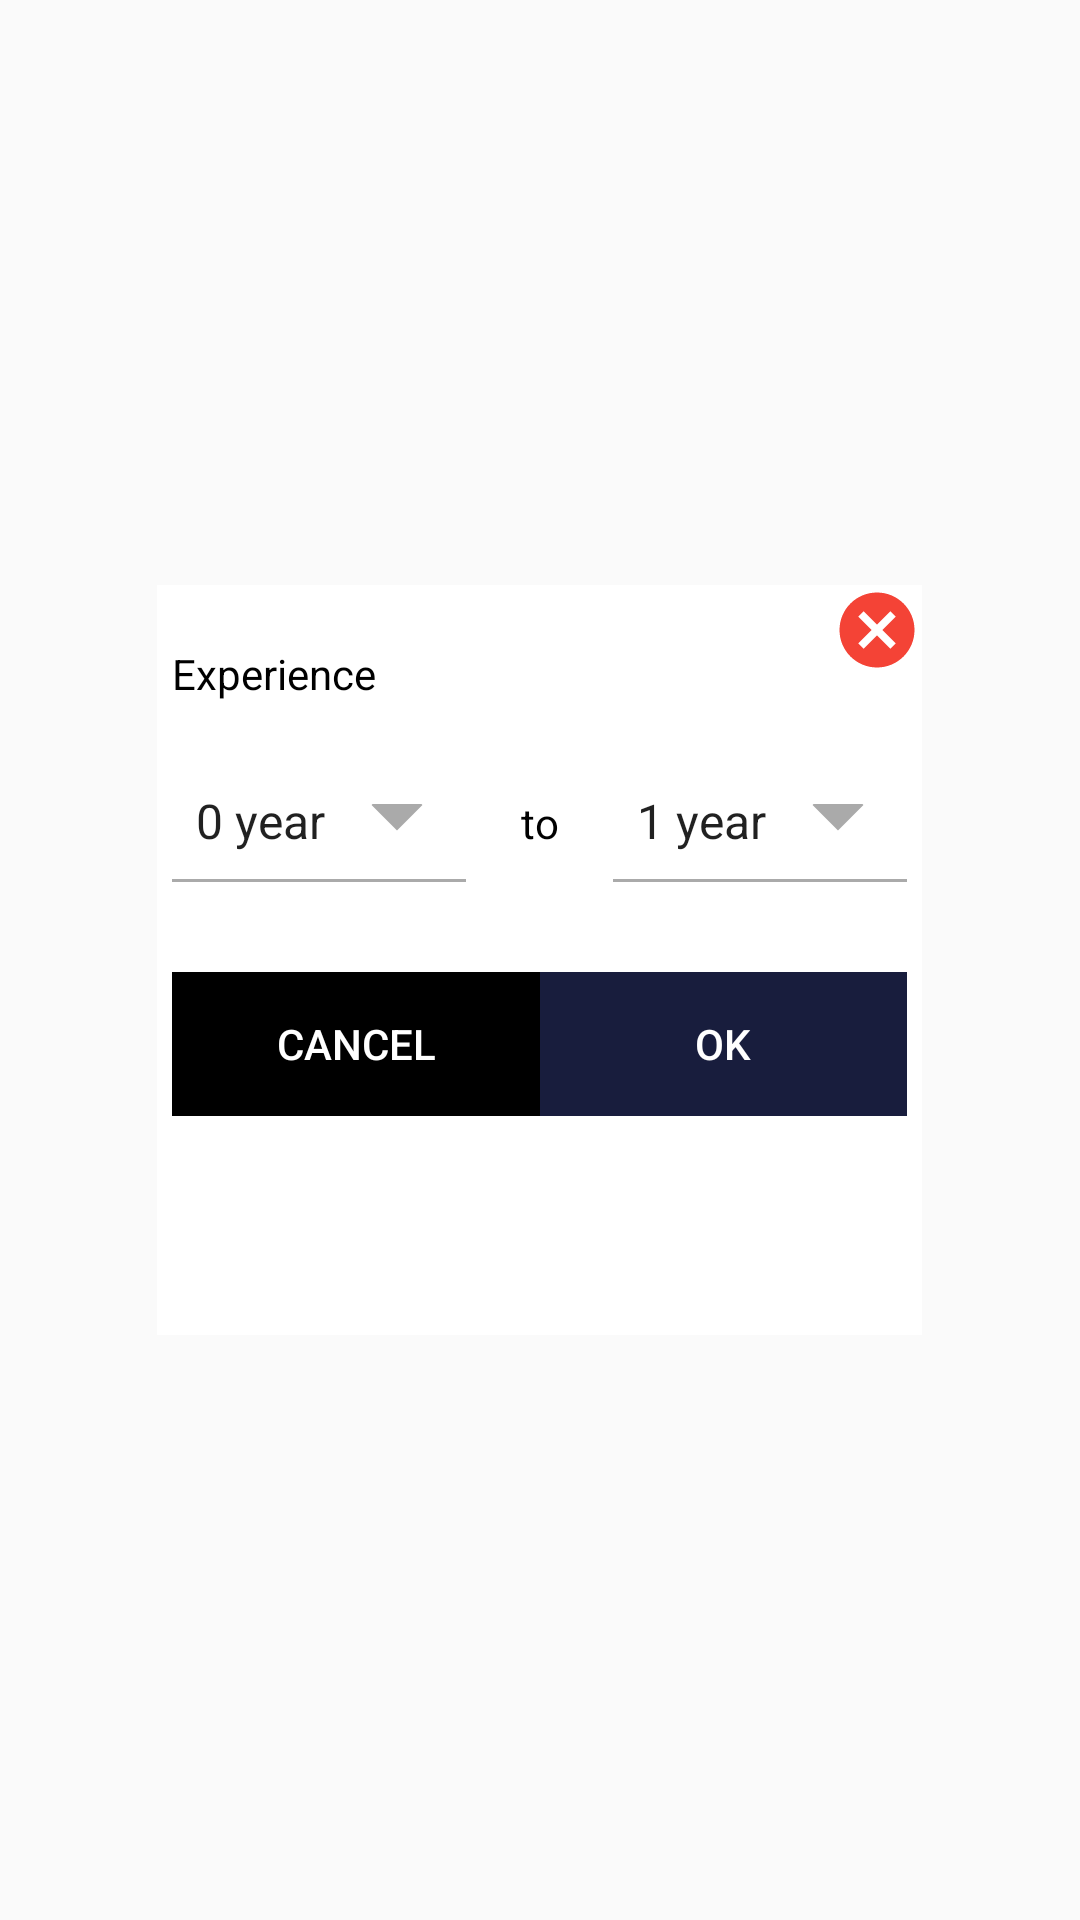

Icon click points for this 1080w x 1920h phone screenshot, format point (x, y):
cancel: point (877, 630)
